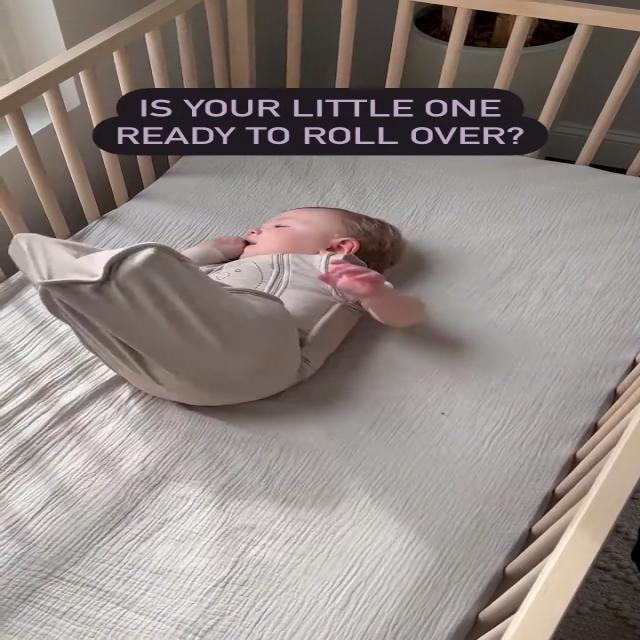baby: (0, 184, 457, 415)
